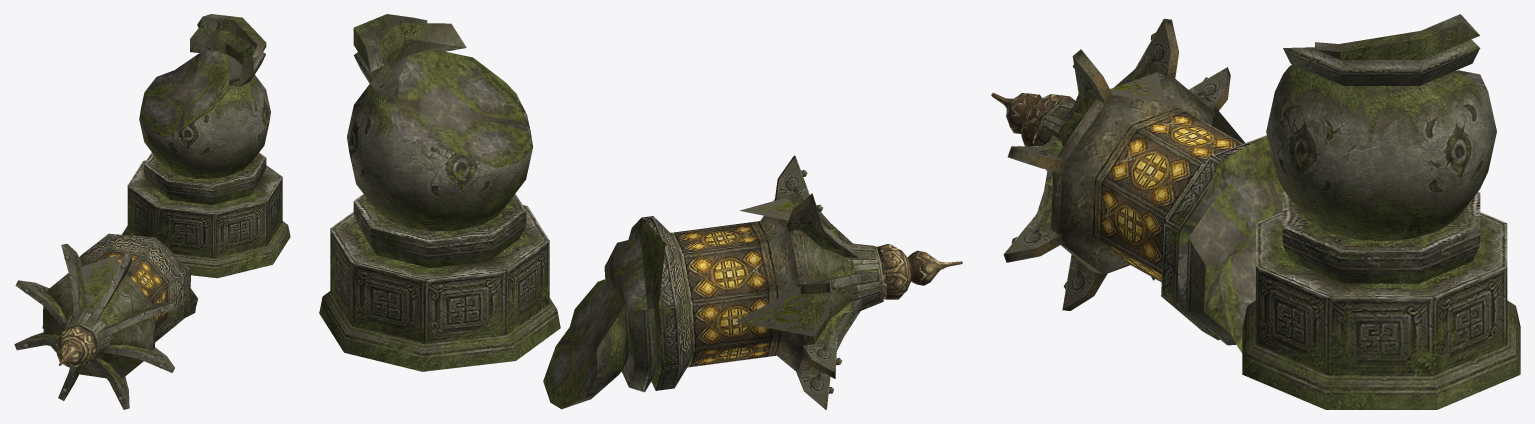
Rendered from 4009_Item_dengzuo_broken_1.FBX.
3 renders of one model, left to right at view 1: azimuth 30°, elevation 25°; view 2: azimuth 150°, elevation 25°; view 3: azimuth 270°, elevation 25°, orthographic. The views are drawn at different scales.
Parts seen in each view (by area): view 1: 4009_Item_dengzuo_broken_1; view 2: 4009_Item_dengzuo_broken_1; view 3: 4009_Item_dengzuo_broken_1.
Boxes of the visible parts, x1=… form: 4009_Item_dengzuo_broken_1: x1=14, y1=14, x2=290, y2=409; 4009_Item_dengzuo_broken_1: x1=319, y1=14, x2=962, y2=409; 4009_Item_dengzuo_broken_1: x1=991, y1=14, x2=1520, y2=409.
Size of the model in its own units: 316 by 244 by 254.
